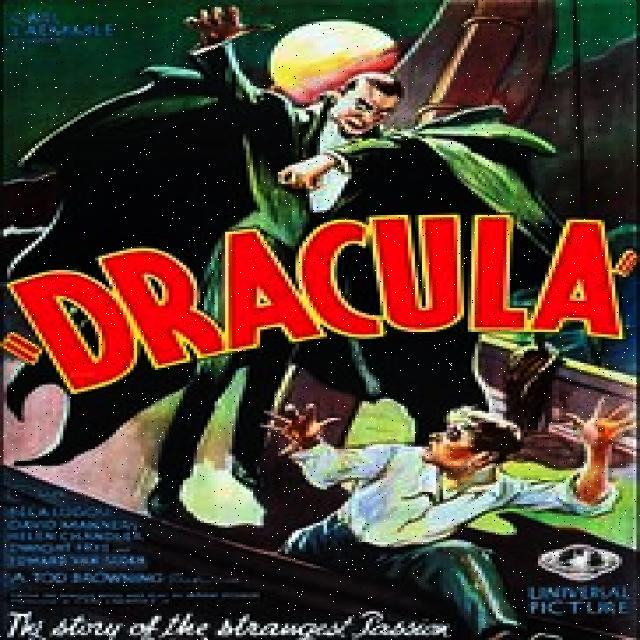movie-judul: (6, 200, 640, 400)
picture: (7, 4, 630, 640)
